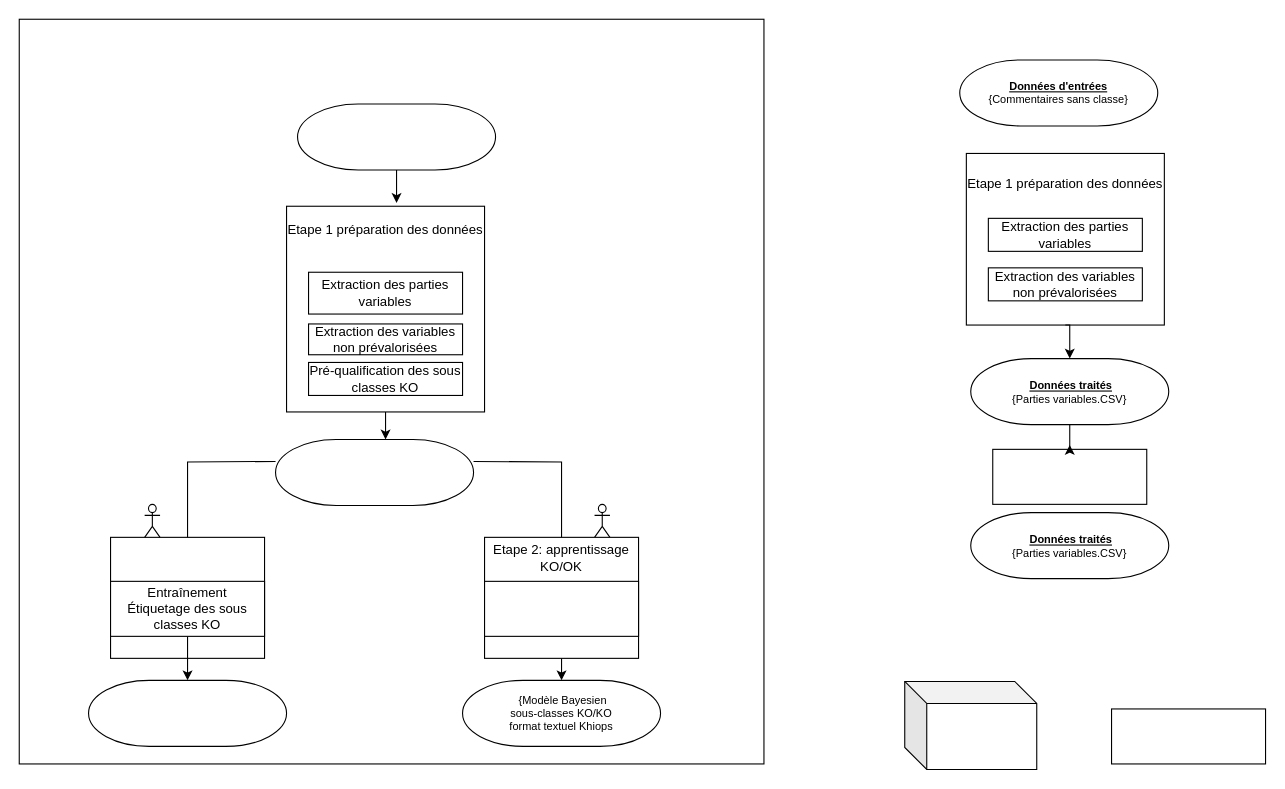
Some shapes in this 1285 by 789 pixel diagram are drawn without their labels. Here are the shapes that lost their labels. From the top down, the box of each, then its label:
(296, 103, 496, 170): Données d'entrées {Commentaires + classes KO/OK + sous-classes KO. CSV}
(274, 438, 474, 505): Données traités {Parties variables + classes KO/OK + sous-classes KO. CSV}
(992, 448, 1147, 504): Classification OK/KO Khiops Patatext
(109, 536, 265, 658): Etape 3 : apprentissage KO
(483, 580, 639, 636): Entraînement Étiquetage des sous classes OK/KO
(87, 679, 287, 746): {Modèle Bayesien sous-classes KO format textuel Khiops
